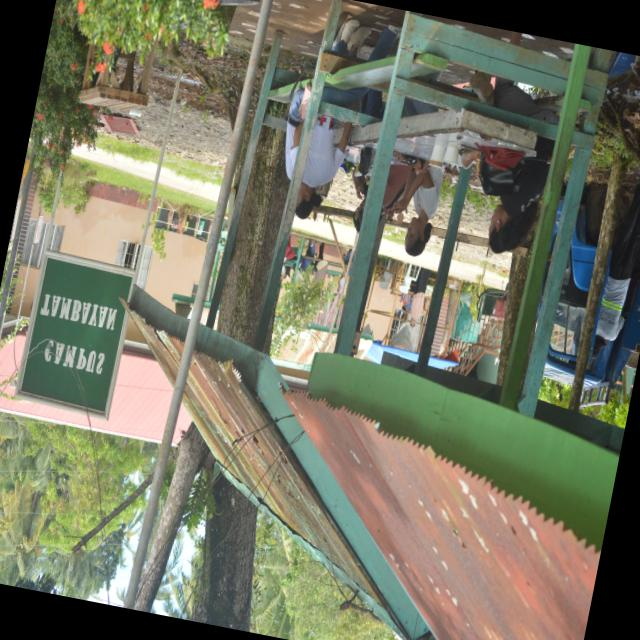person: (593, 184, 639, 358), (489, 136, 554, 252), (296, 117, 352, 218), (411, 267, 430, 326)
